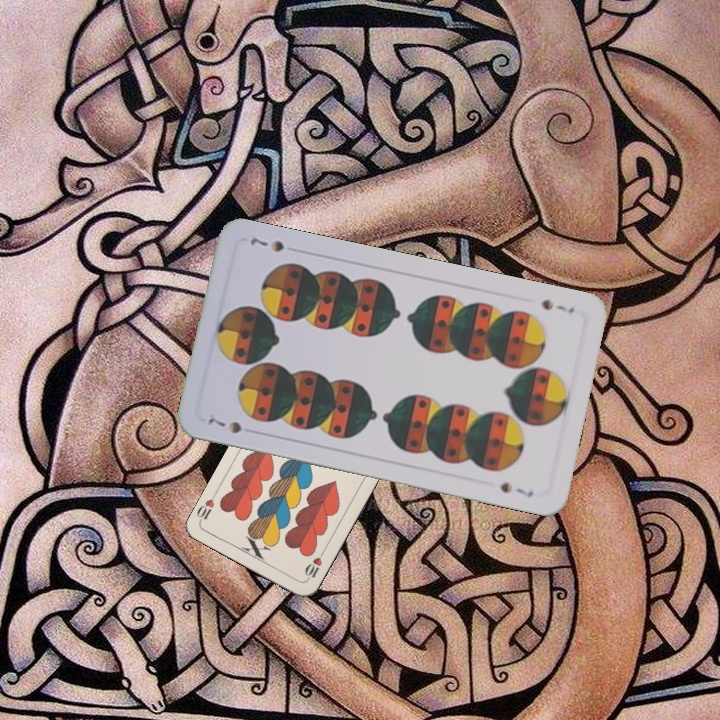H10: (300, 546, 327, 583)
S7: (204, 413, 245, 436), (537, 295, 577, 316)
